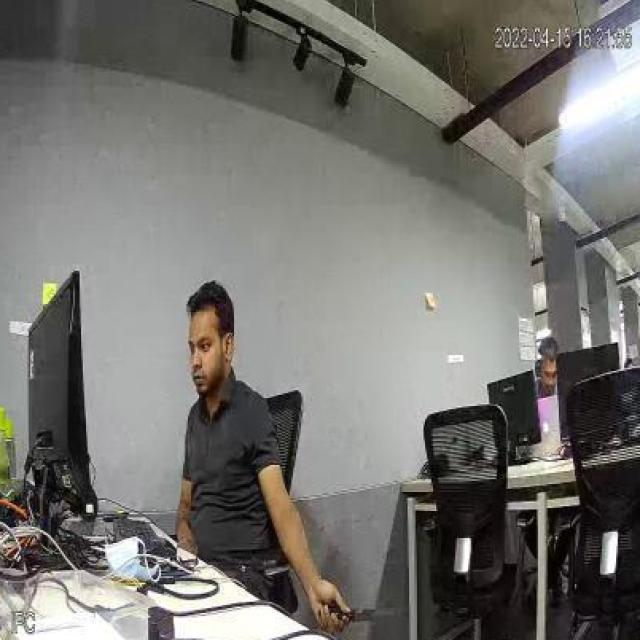Knife: (311, 584, 415, 632)
